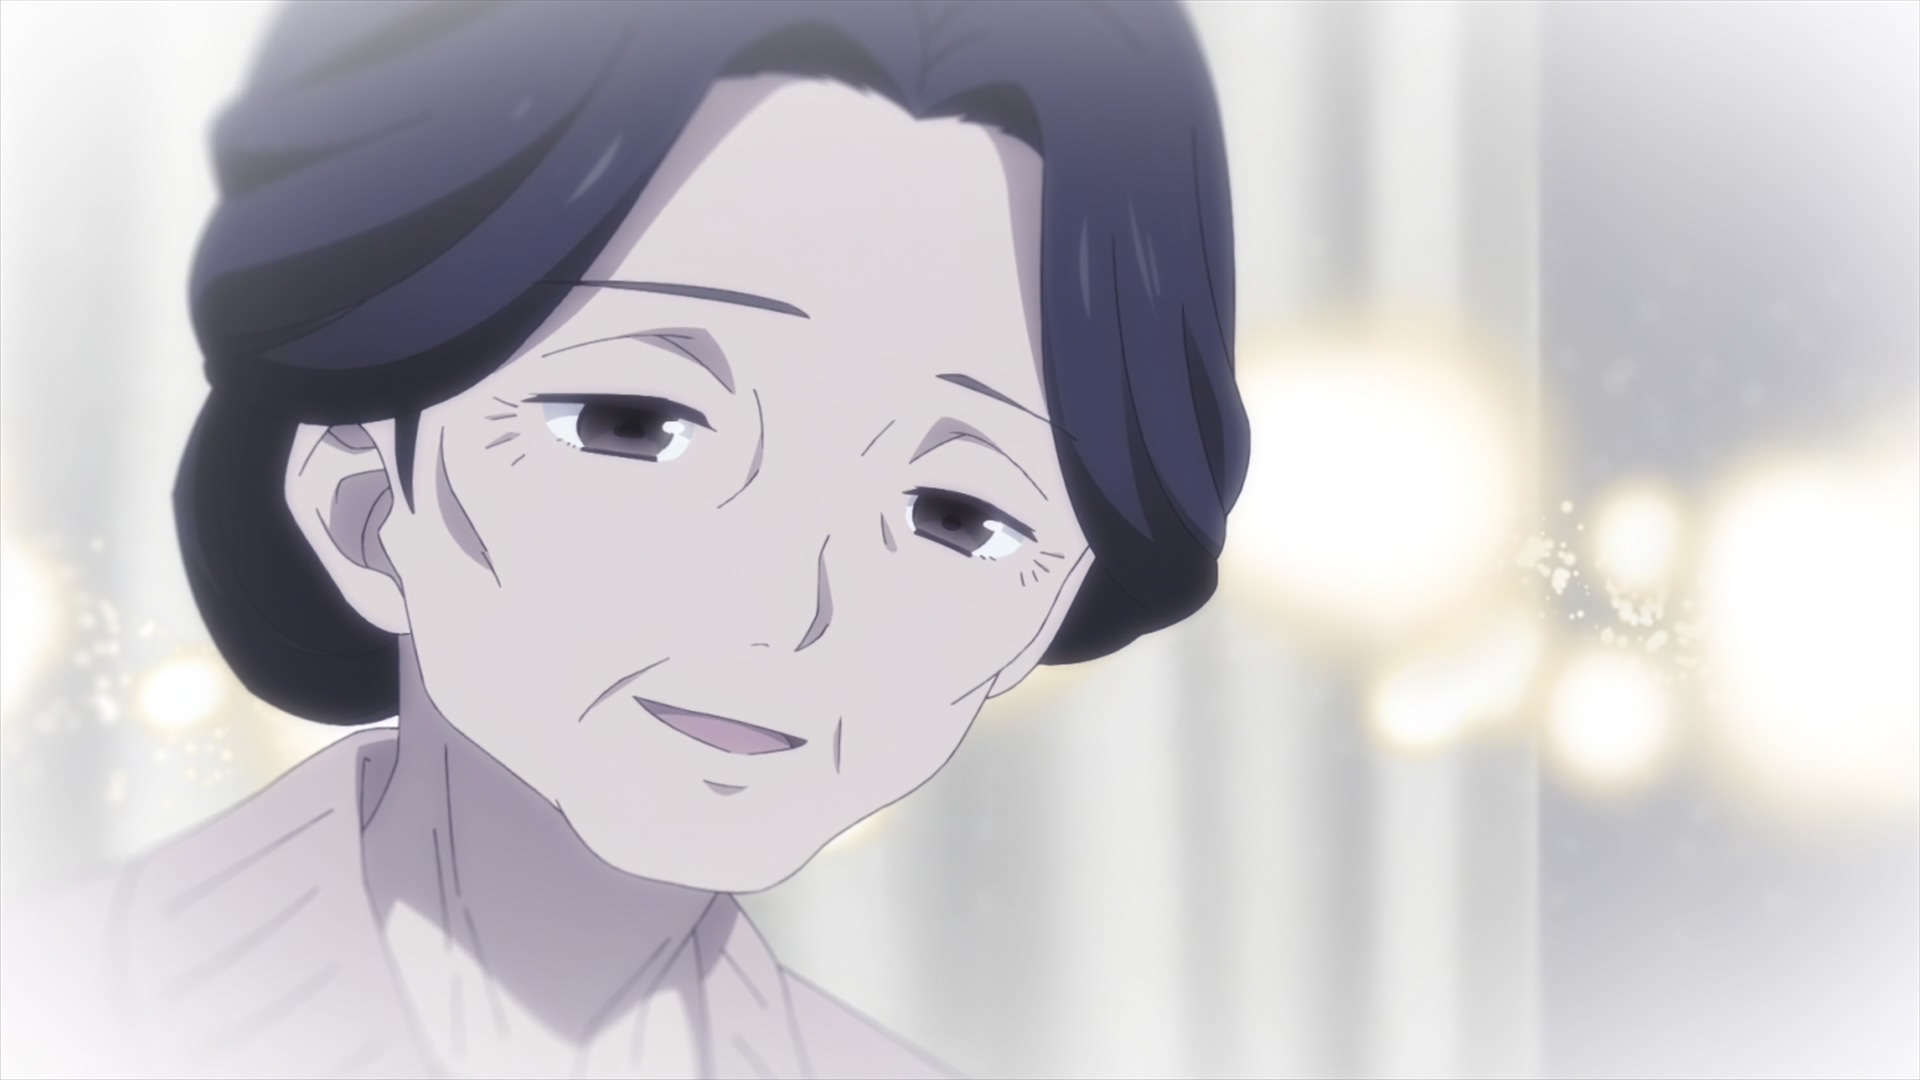其他: (1, 1, 1250, 1080)
